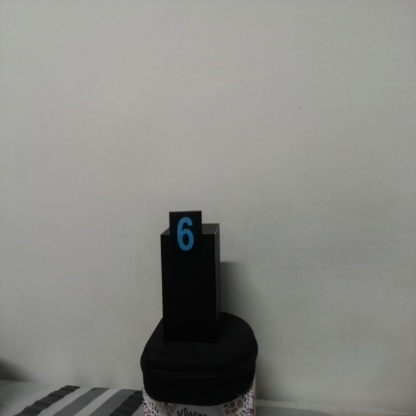id_6: (170, 213, 202, 260)
